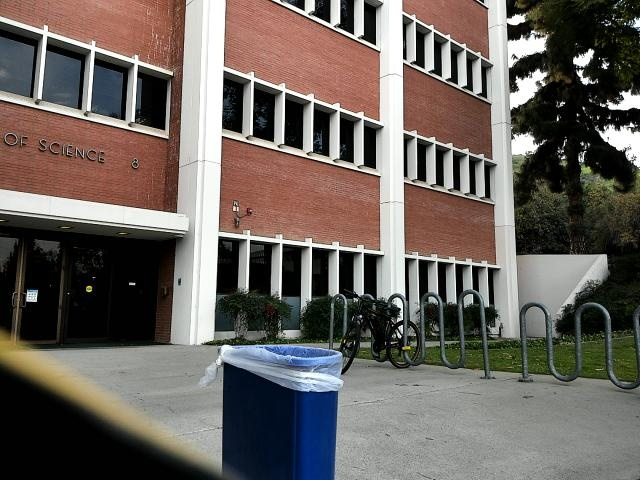trashcan_open: (220, 344, 339, 480)
